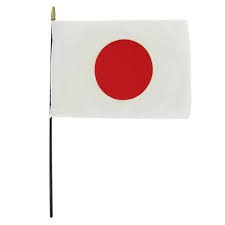Japanese Flag: (52, 18, 192, 121)
